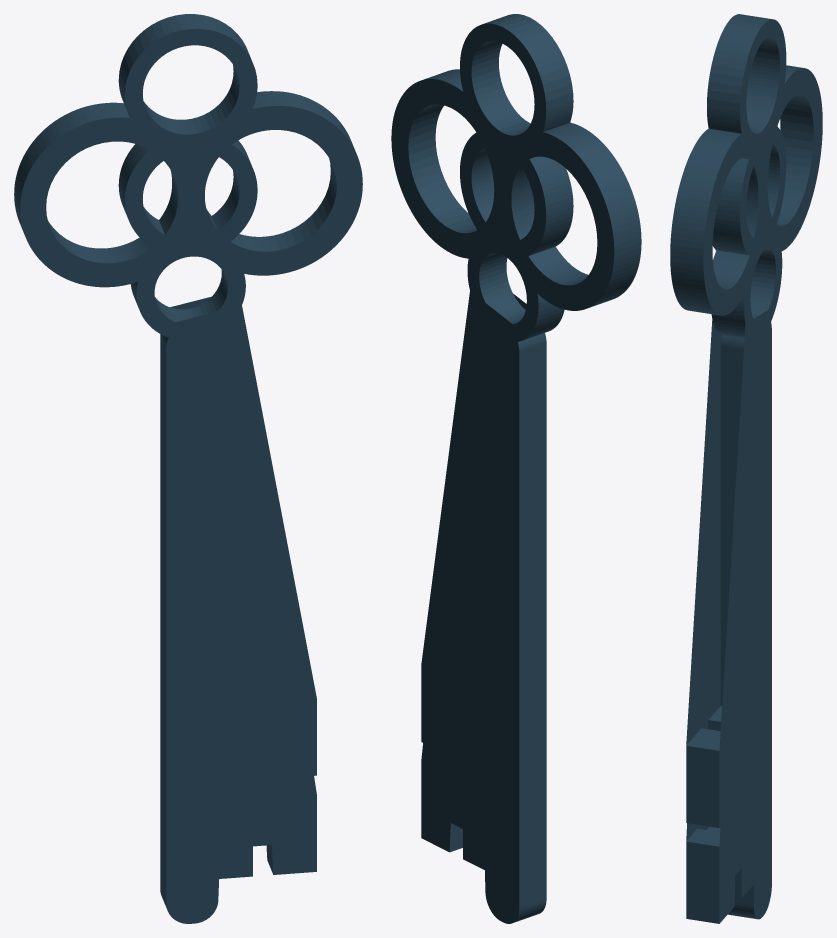
The model's file is 025_Shadow_GiantKey_02.fbx.
The picture shows the model from 3 angles, left to right: view 1: azimuth 30°, elevation 25°; view 2: azimuth 150°, elevation 25°; view 3: azimuth 270°, elevation 25°; orthographic projection.
Visible parts, largest first — view 1: Curve.009; view 2: Curve.009; view 3: Curve.009.
Boxes of the visible parts, left/top/right/bottom form: Curve.009: left=14, top=14, right=362, bottom=923; Curve.009: left=391, top=14, right=641, bottom=923; Curve.009: left=670, top=14, right=822, bottom=923.
Size of the model in its own units: 129 by 376 by 58.33.
